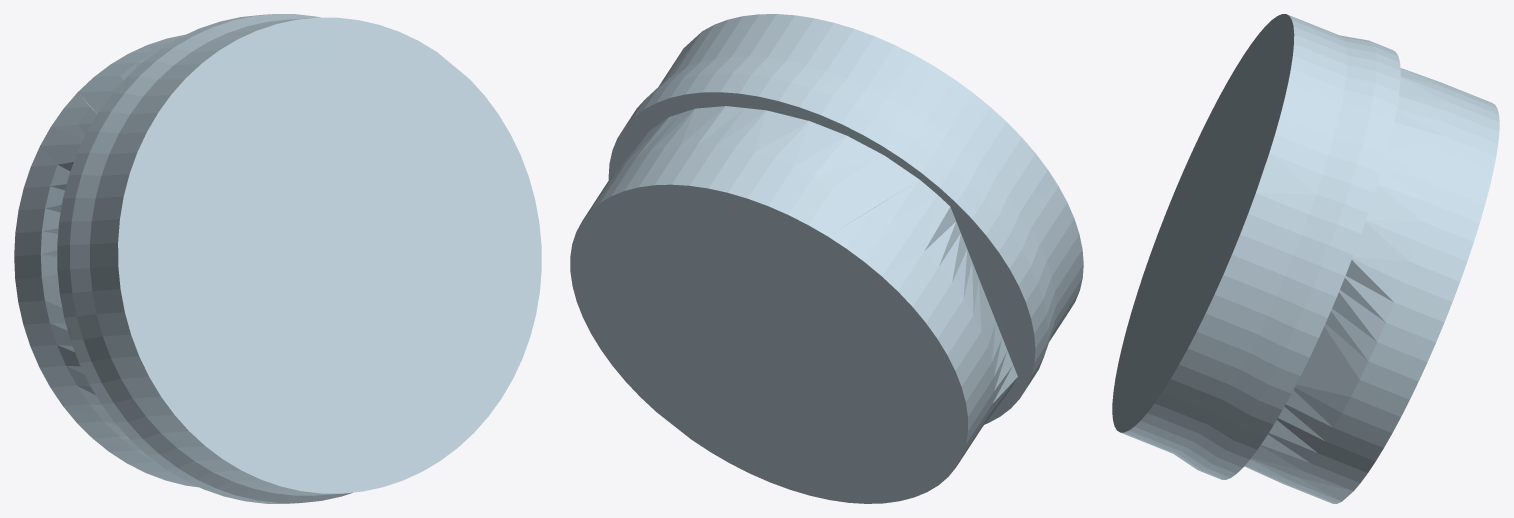
File: left_wrist_z_link_visual_2.obj.light.glb
3 views of the same model, side by side, from view 1: azimuth 30°, elevation 25°; view 2: azimuth 150°, elevation 25°; view 3: azimuth 270°, elevation 25° (orthographic). The views are drawn at different scales.
Size of the model in its own units: 0.125 by 0.1331 by 0.1047.
